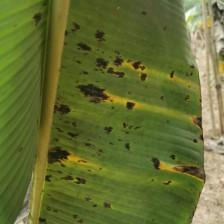pestalotiopsis: (0, 0, 206, 224)
